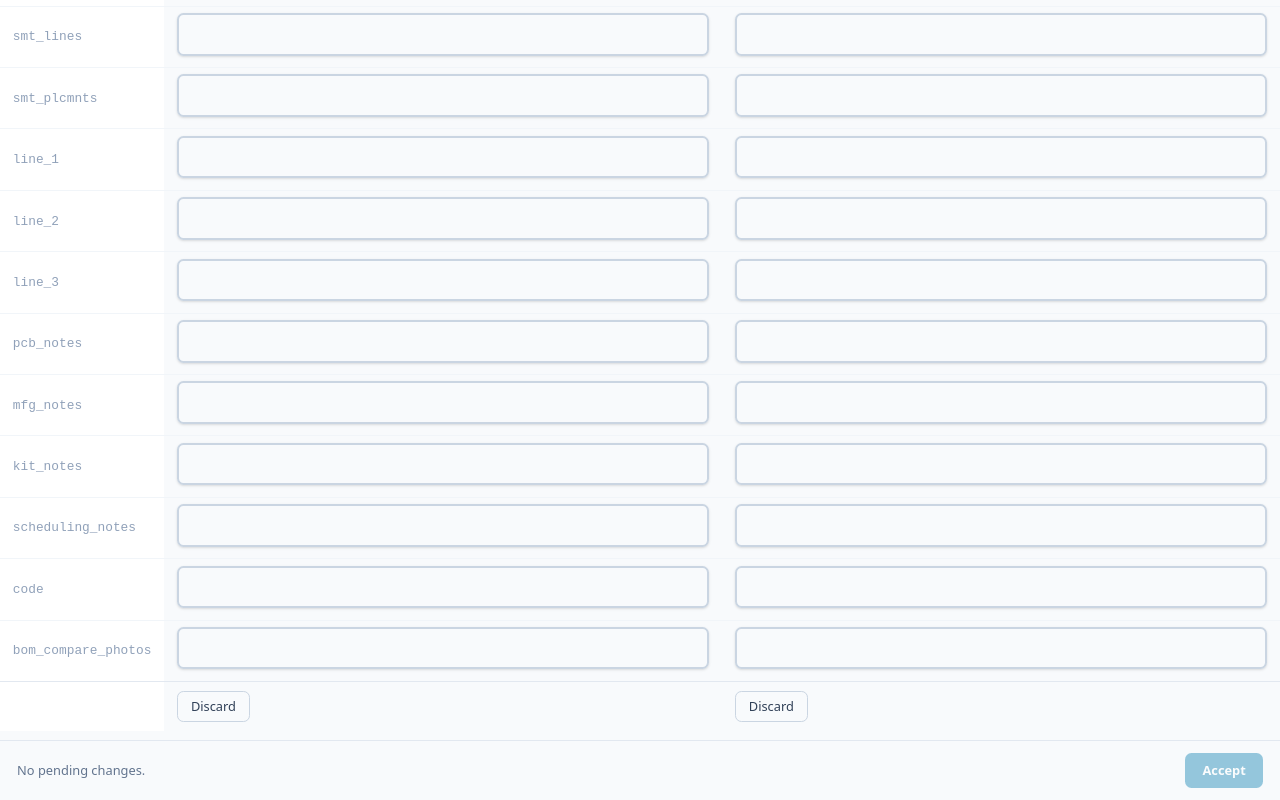
Test: ConflictRowComparison — Accept button › enables Accept button after marking a row for discard
The image size is (1280, 800).
(page scrolled)
Click the button with test id "conflict-discard-btn-10" at (214, 706), box [177, 690, 250, 722]
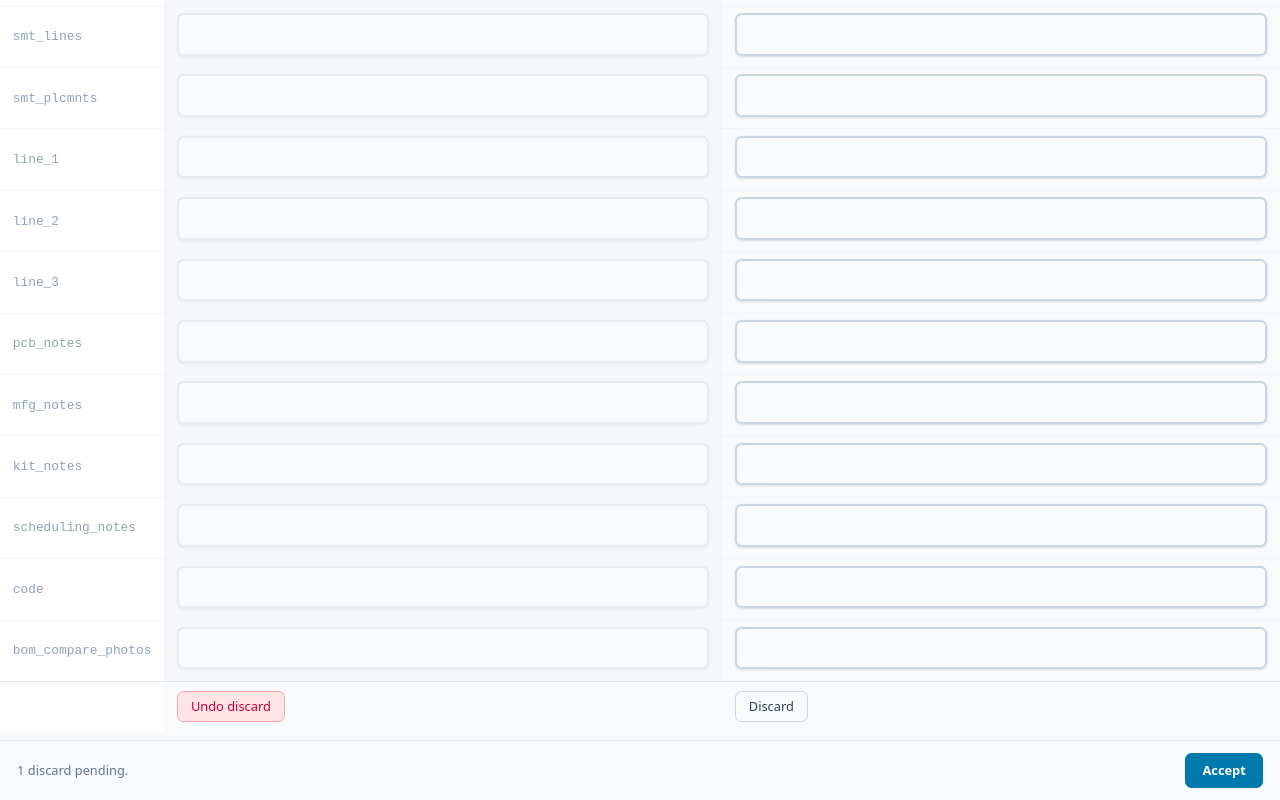
Expected: the button with test id "conflict-accept-btn" is enabled, [1185, 753, 1263, 788]
